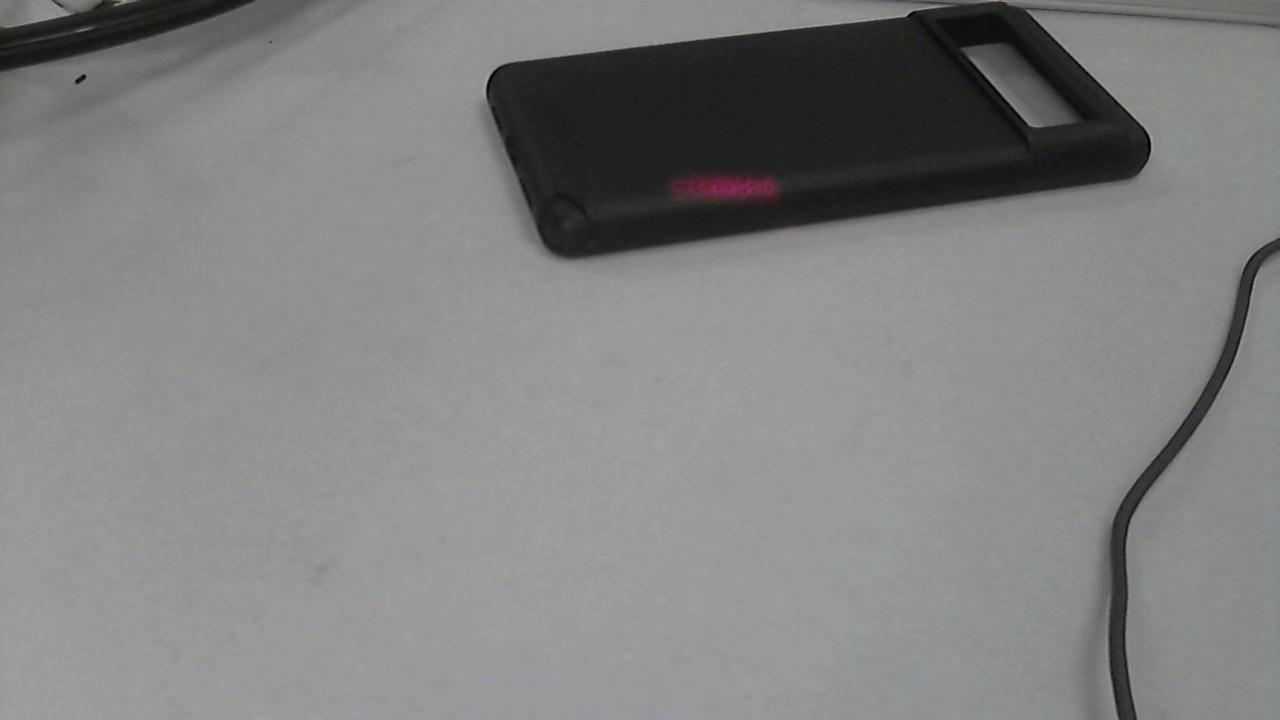Object protective phone case - Material plastic - Pdfname asdfeafgta: (652, 172, 798, 205)
